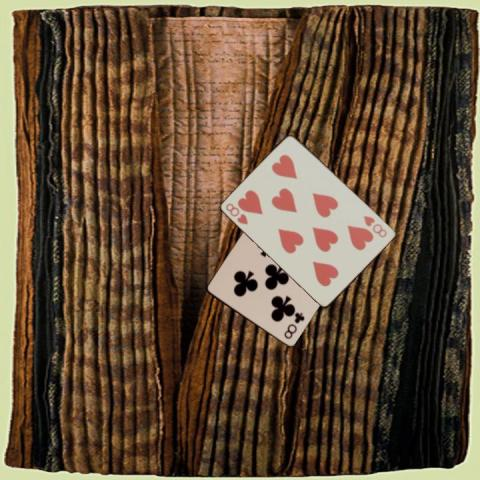8c: (281, 310, 306, 341)
8h: (360, 212, 388, 238), (223, 200, 249, 226)
